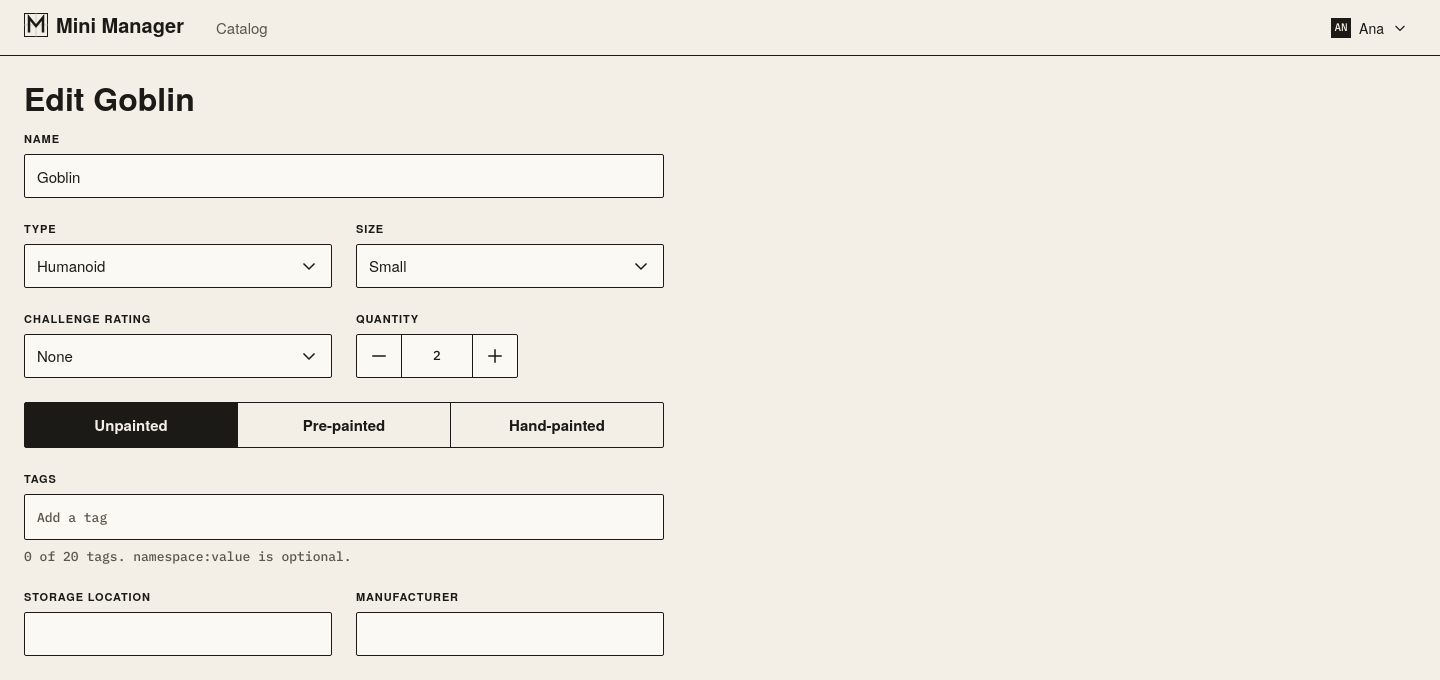
Test case: MiniatureFormPage › card 5 rule 1: typing quantity 0 offers deleting the miniature instead
Replace the text in the field labelled "Quantity" with "0" at (437, 356), box [401,335,473,377]
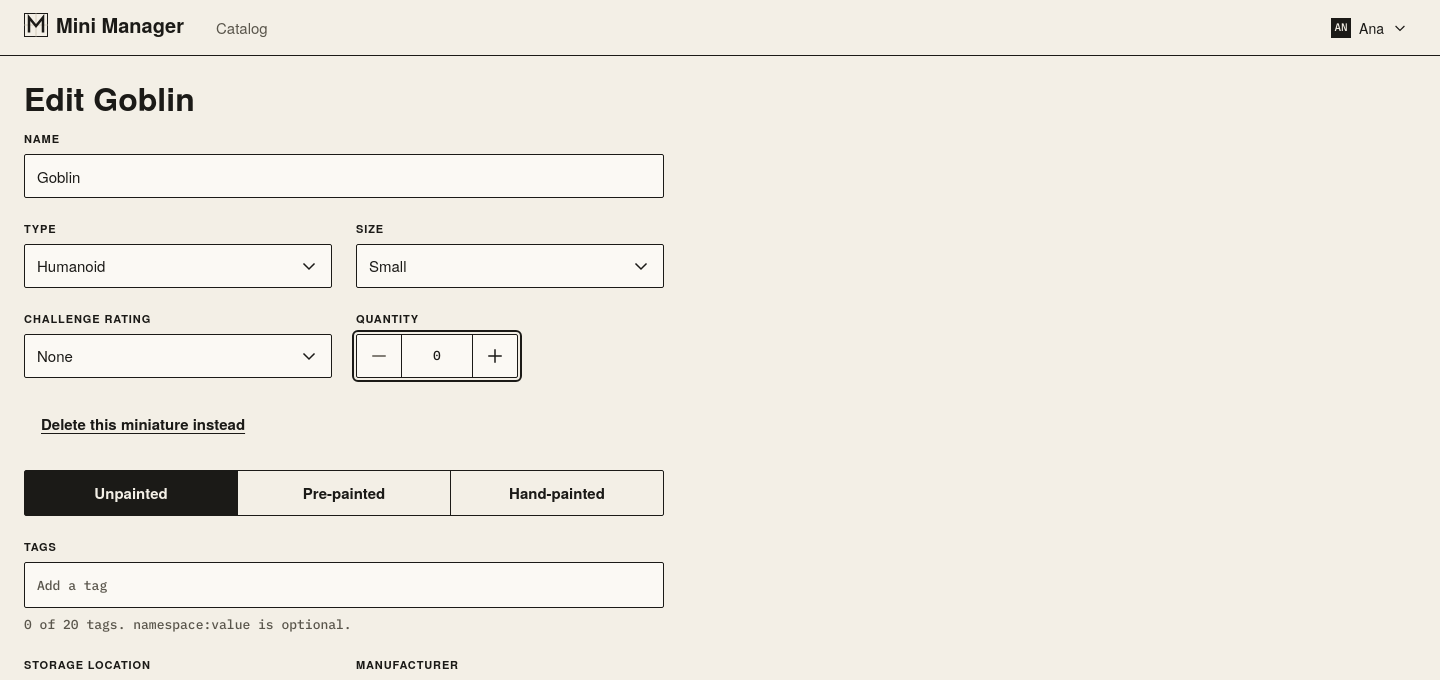
// Offered as soon as 0 is typed, before any save attempt.
Click the button "Delete this miniature instead" at (143, 424), box [24,402,262,446]
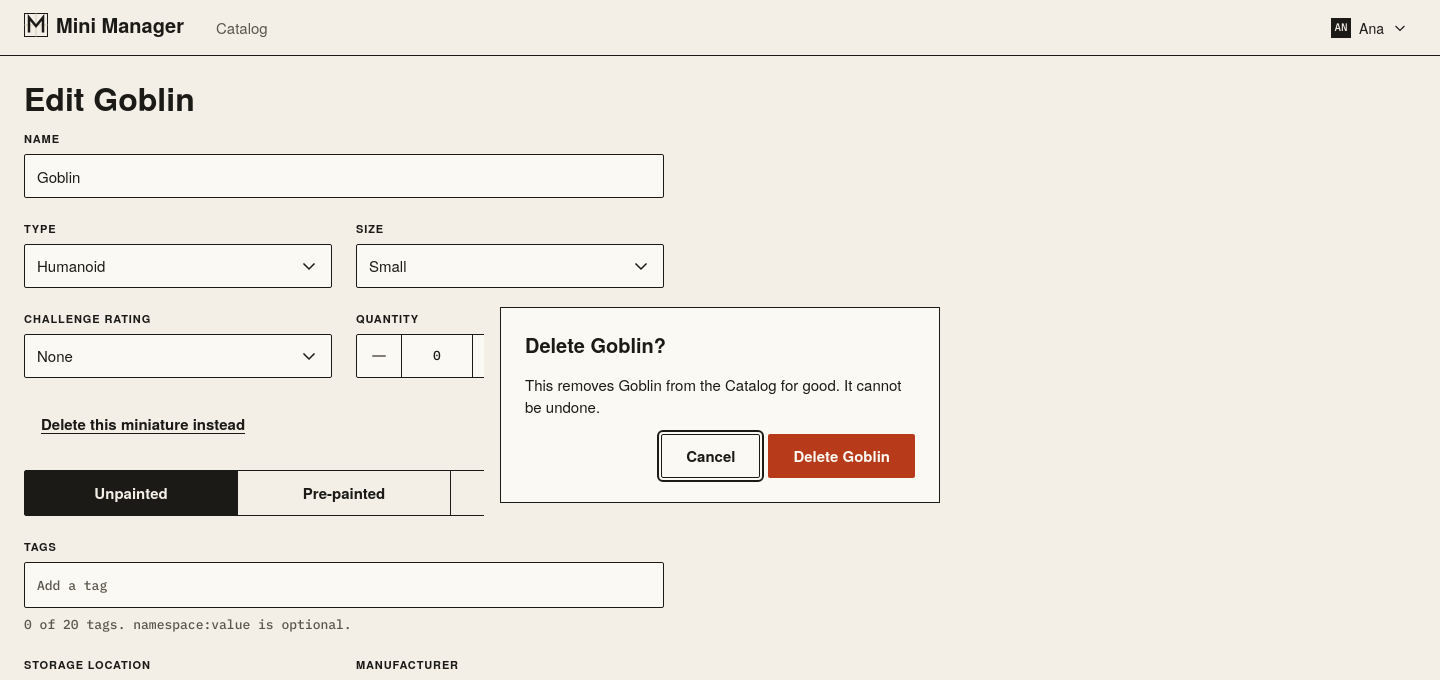
Check: the dialog "Delete Goblin?" is shown, box [500,307,940,503]
